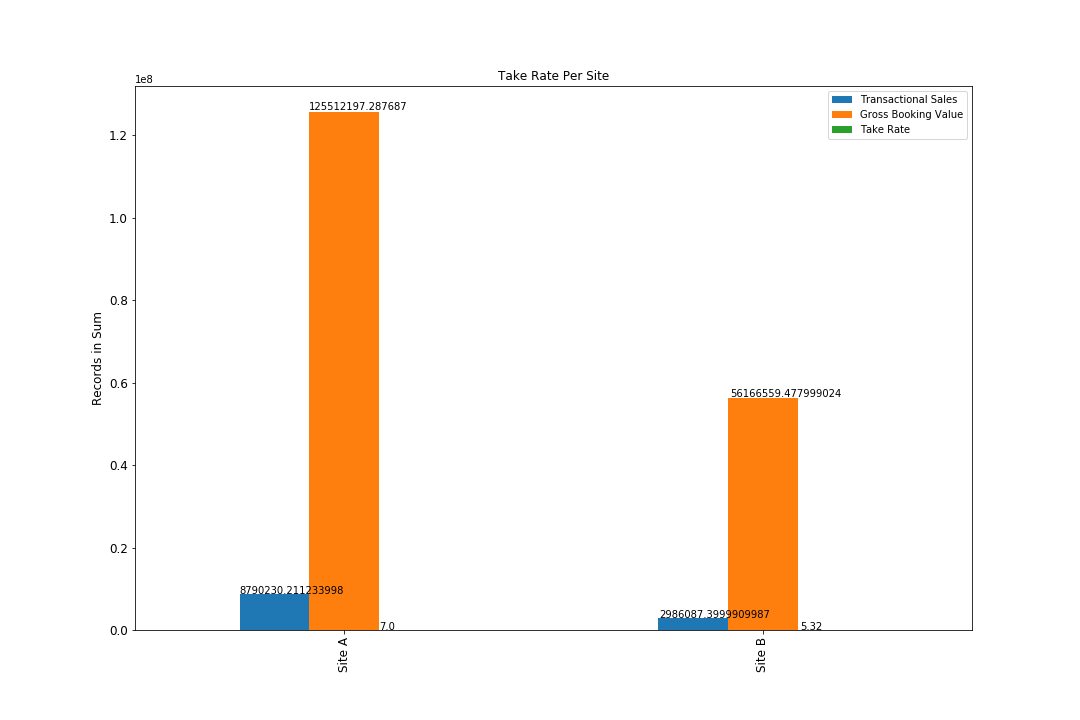

The dashboard page shown, as its layout file describes it:
{"tool":"tableau","page":{"name":"BarChart","canvas":[1000,800],"ordinal":1},"visuals":[{"type":"filter","title":"All-Viz-1","param":"[federated.0fqd9971pobdc41fchzsx0ctk5mb].[none:Site:nk]","box":[8,8,143,75]},{"type":"filter","title":"All-Viz-1","param":"[federated.0fqd9971pobdc41fchzsx0ctk5mb].[none:Year of Date Id:nk]","box":[151,8,182,75]},{"type":"filter","title":"All-Viz-1","param":"[federated.0fqd9971pobdc41fchzsx0ctk5mb].[none:Measure Names:nk]","box":[333,8,353,75]},{"type":"filter","title":"All-Viz-1","param":"[federated.0fqd9971pobdc41fchzsx0ctk5mb].[none:Supplier Type:nk]","box":[686,8,146,75]},{"type":"filter","title":"All-Viz-1","param":"[federated.0fqd9971pobdc41fchzsx0ctk5mb].[none:Person Type:nk]","box":[832,8,160,75]},{"type":"worksheet","title":"All-Viz-1","mark":"Automatic","rows":["Measure Names","Person Type","Site","Supplier Type"],"cols":["Measure Values"],"box":[8,83,984,709]}]}

Visuals, with their boxes on the page's 1000x800 design canvas (x1, y1, x2, y2). These are canvas units, not pixel positions in the 1080x720 screenshot, which may show the page scaled, cropped or inside an application window:
"All-Viz-1" filter: 8 8 151 83
"All-Viz-1" filter: 151 8 333 83
"All-Viz-1" filter: 333 8 686 83
"All-Viz-1" filter: 686 8 832 83
"All-Viz-1" filter: 832 8 992 83
"All-Viz-1" worksheet: 8 83 992 792
